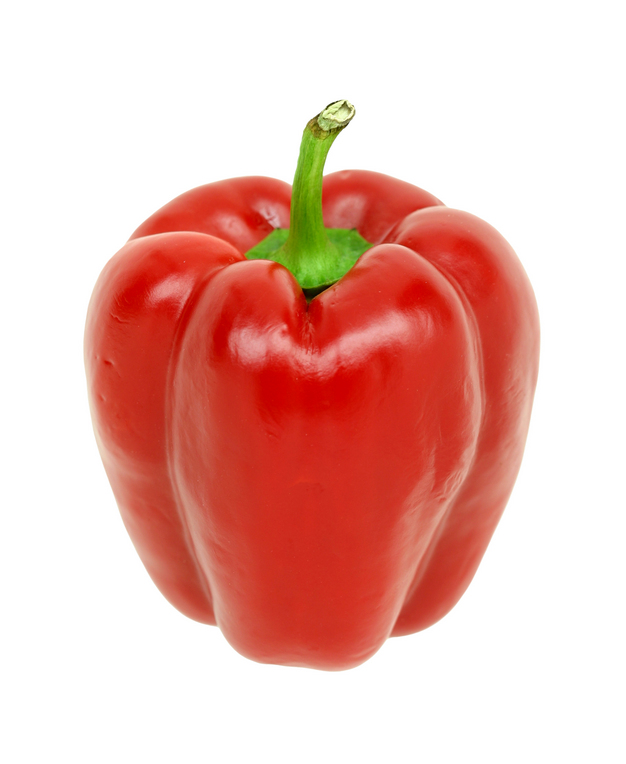capsicum: (82, 101, 543, 672)
